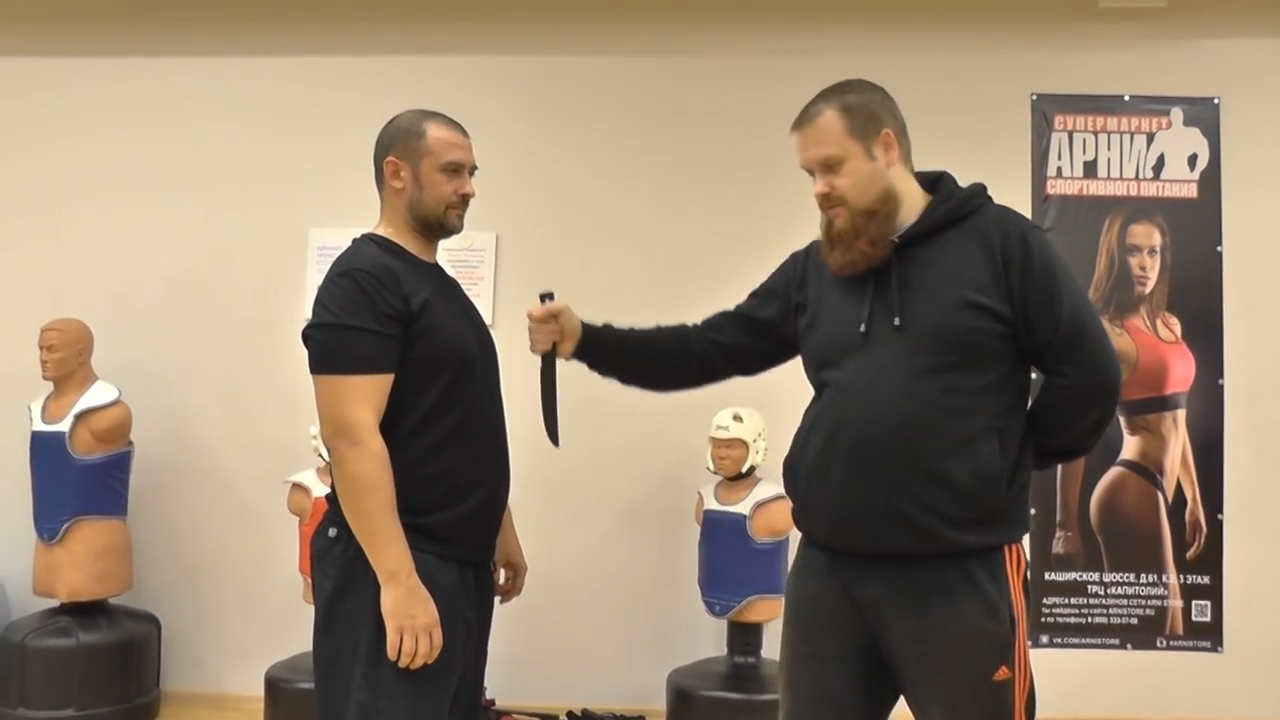knife: (523, 285, 576, 455)
